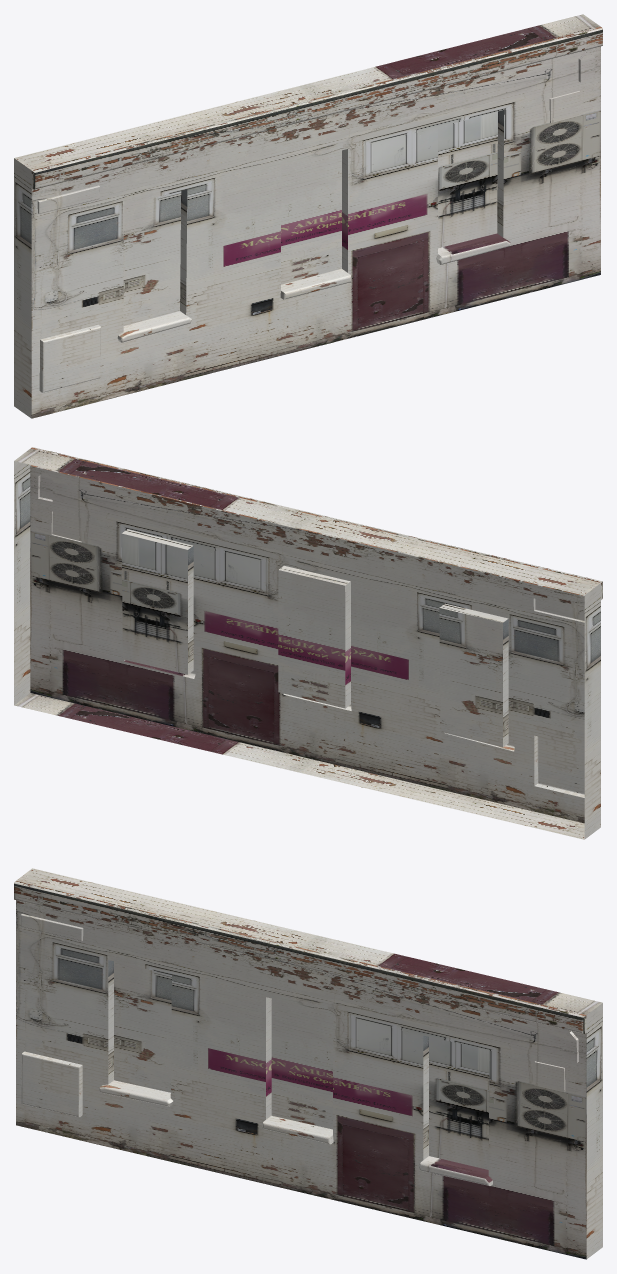
File: simplepink.obj
The picture shows the model from 3 angles, top to bottom: view 1: azimuth 30°, elevation 25°; view 2: azimuth 150°, elevation 25°; view 3: azimuth 330°, elevation 25°; orthographic projection.
Parts seen in each view (by area): view 1: Old_Building_#4.001; view 2: Old_Building_#4.001; view 3: Old_Building_#4.001.
Part boxes in pixels (x1,y1,x2,y2): Old_Building_#4.001: [14, 14, 602, 418]; Old_Building_#4.001: [14, 447, 602, 839]; Old_Building_#4.001: [14, 868, 602, 1259].
Bounding box in the file's own units: 36.35 × 15 × 2.76.
1 material, 1 textured.
